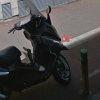Motorcycle: (2, 13, 78, 96)
